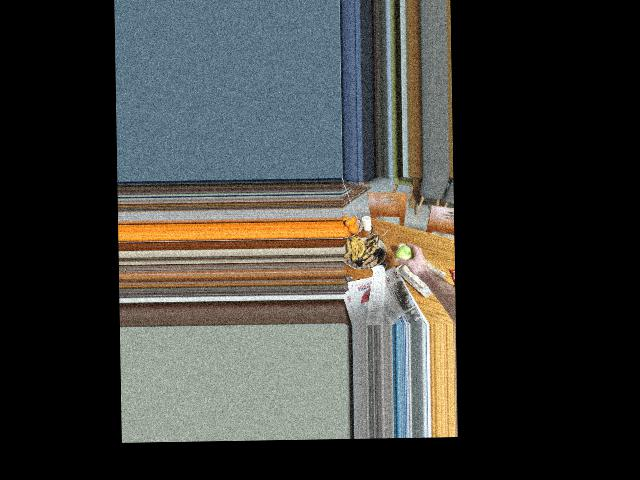apple: (394, 245, 418, 266)
